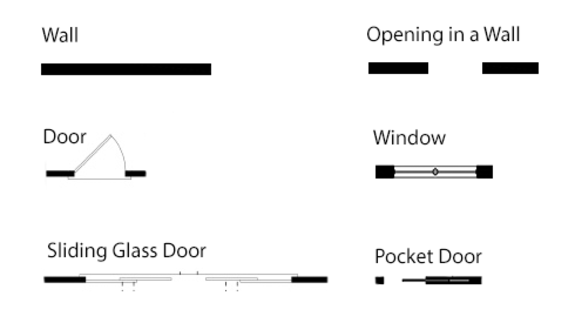wall: (40, 63, 211, 75)
window: (394, 165, 476, 178)
